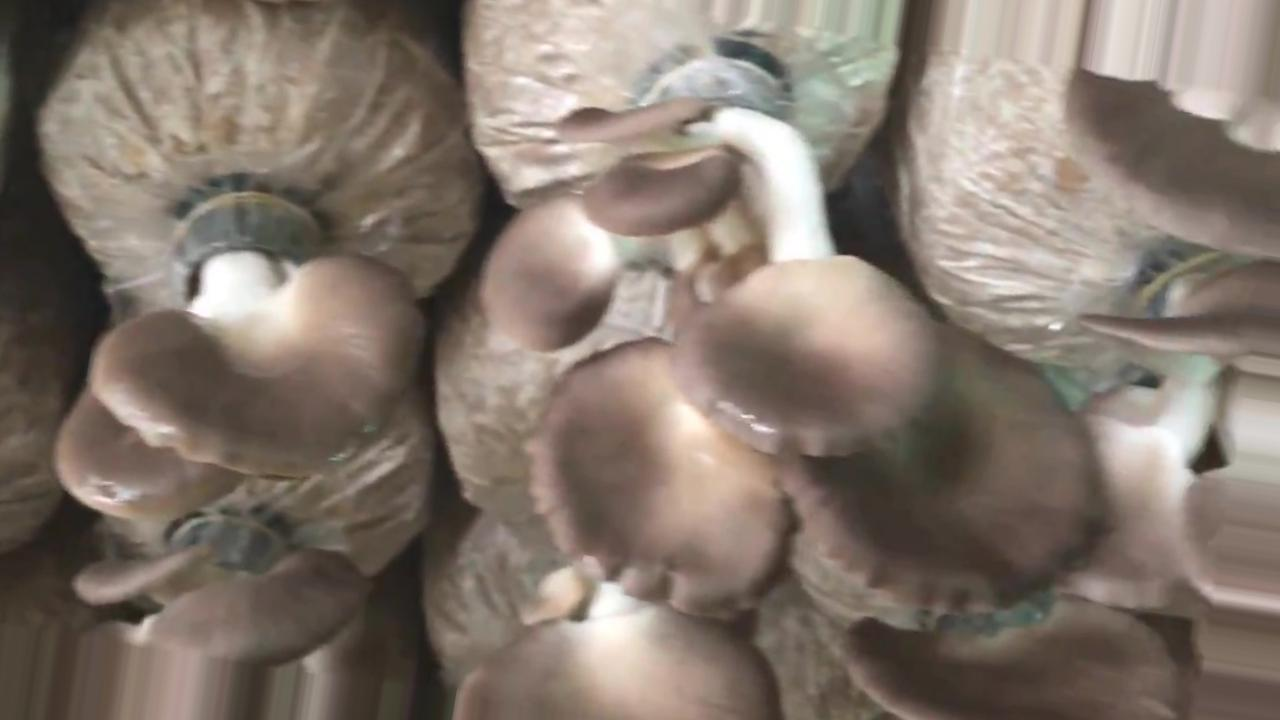nam: (480, 39, 1111, 635), (52, 145, 436, 523), (73, 496, 375, 673), (452, 564, 786, 720), (834, 593, 1173, 713), (1063, 66, 1280, 253)
